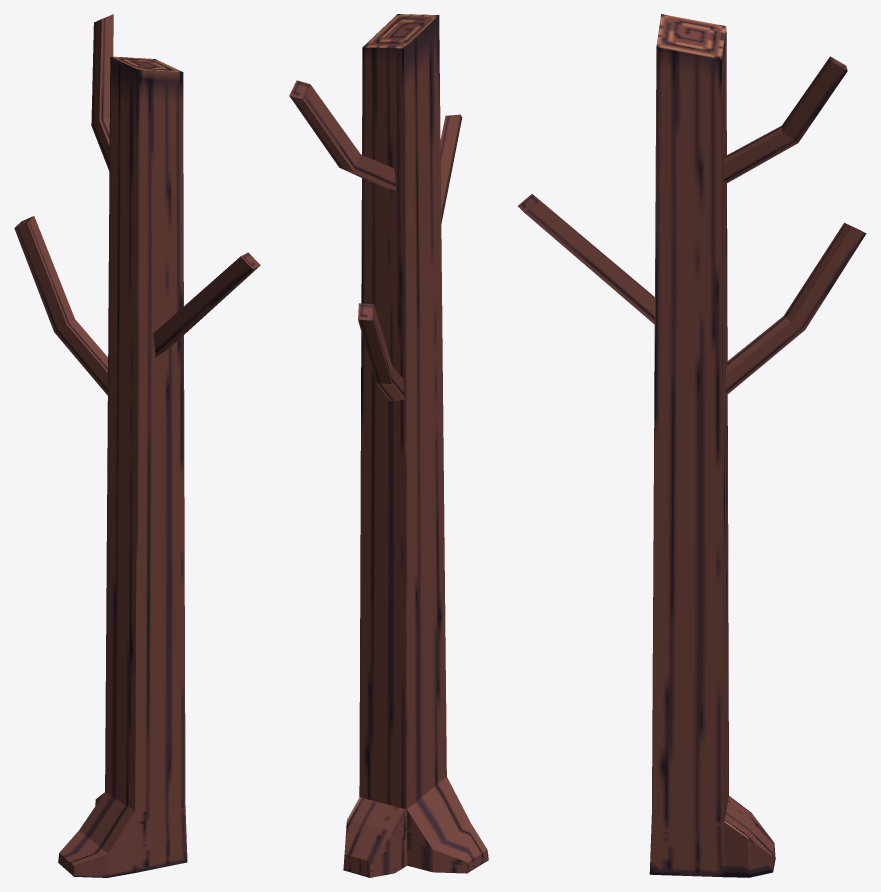
Rendered from ArvoreSemFolha.fbx.
3 views of the same model, side by side, from view 1: azimuth 30°, elevation 25°; view 2: azimuth 150°, elevation 25°; view 3: azimuth 270°, elevation 25° (orthographic). The views are drawn at different scales.
Parts seen in each view (by area): view 1: ArvoreGrandeSFolhas; view 2: ArvoreGrandeSFolhas; view 3: ArvoreGrandeSFolhas.
Boxes of the visible parts, x1,y1,x2,y2 form: ArvoreGrandeSFolhas: [14, 14, 260, 877]; ArvoreGrandeSFolhas: [289, 14, 488, 877]; ArvoreGrandeSFolhas: [517, 14, 866, 877].
Size of the model in its own units: 114 by 766 by 289.
